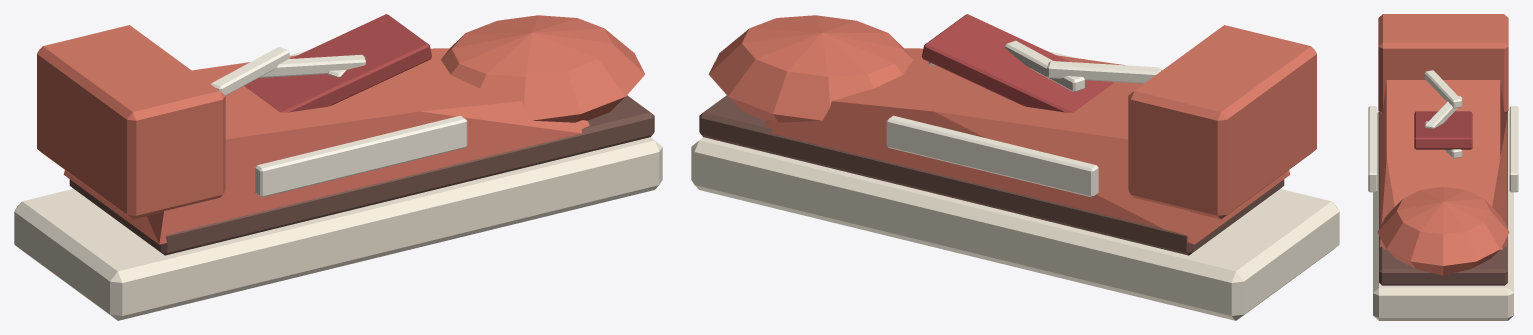
File: shoe.glb
The picture shows the model from 3 angles, left to right: view 1: azimuth 30°, elevation 25°; view 2: azimuth 150°, elevation 25°; view 3: azimuth 270°, elevation 25°; orthographic projection. The views are drawn at different scales.
Visible parts, largest first — view 1: shoe_sole, shoe_heel_collar, shoe_upper_faceted, shoe_round_toe_lowpoly, shoe_midsole_band, shoe_tongue, shoe_side_stripe_left, shoe_lace_2, shoe_lace_1; view 2: shoe_sole, shoe_heel_collar, shoe_upper_faceted, shoe_round_toe_lowpoly, shoe_midsole_band, shoe_tongue, shoe_side_stripe_right, shoe_lace_1, shoe_lace_2; view 3: shoe_upper_faceted, shoe_heel_collar, shoe_round_toe_lowpoly, shoe_sole, shoe_midsole_band, shoe_tongue, shoe_side_stripe_left, shoe_side_stripe_right, shoe_lace_1, shoe_lace_2, shoe_lace_3.
Part boxes in pixels (<box>): shoe_sole: <box>14,137,662,320</box>; shoe_heel_collar: <box>37,25,225,219</box>; shoe_upper_faceted: <box>63,48,589,244</box>; shoe_round_toe_lowpoly: <box>441,15,645,122</box>; shoe_midsole_band: <box>69,95,654,255</box>; shoe_tongue: <box>244,14,431,112</box>; shoe_side_stripe_left: <box>255,115,467,197</box>; shoe_lace_2: <box>259,54,365,77</box>; shoe_lace_1: <box>210,47,289,95</box>; shoe_sole: <box>691,137,1339,320</box>; shoe_heel_collar: <box>1128,25,1316,219</box>; shoe_upper_faceted: <box>764,48,1290,244</box>; shoe_round_toe_lowpoly: <box>708,15,912,122</box>; shoe_midsole_band: <box>699,95,1284,255</box>; shoe_tongue: <box>922,14,1114,112</box>; shoe_side_stripe_right: <box>886,115,1098,197</box>; shoe_lace_1: <box>1047,61,1161,83</box>; shoe_lace_2: <box>1005,40,1084,92</box>; shoe_upper_faceted: <box>1379,80,1507,249</box>; shoe_heel_collar: <box>1378,14,1508,113</box>; shoe_round_toe_lowpoly: <box>1377,187,1509,275</box>; shoe_sole: <box>1373,111,1513,320</box>; shoe_midsole_band: <box>1379,112,1507,285</box>; shoe_tongue: <box>1414,111,1472,149</box>; shoe_side_stripe_left: <box>1368,106,1377,192</box>; shoe_side_stripe_right: <box>1509,106,1518,192</box>; shoe_lace_1: <box>1424,70,1462,108</box>; shoe_lace_2: <box>1424,96,1462,128</box>; shoe_lace_3: <box>1425,121,1462,158</box>.
Bounding box in the file's own units: 0.29 × 0.098 × 0.098.
